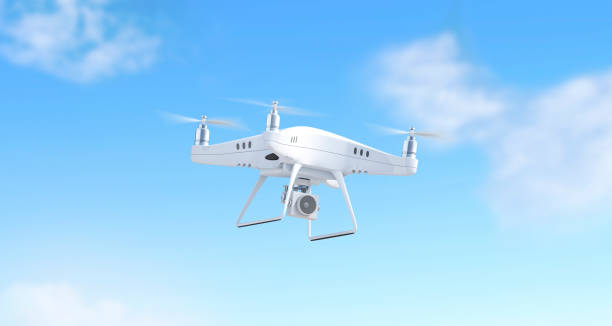Drone: (151, 94, 449, 249)
